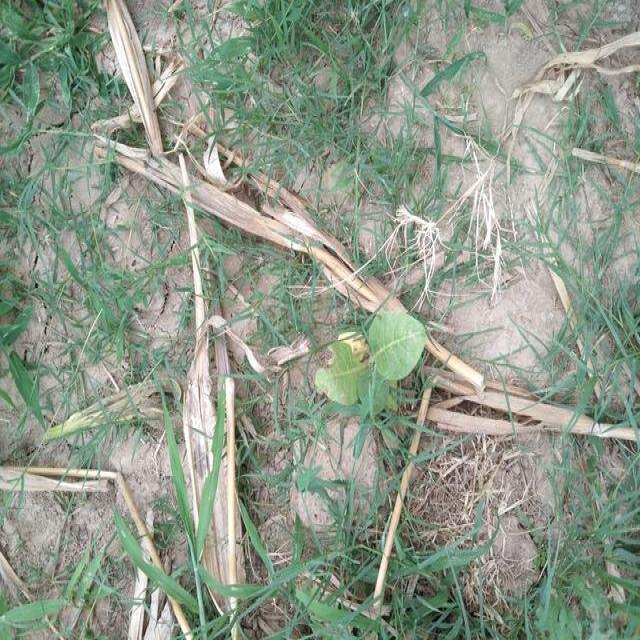crop: (315, 291, 438, 414)
